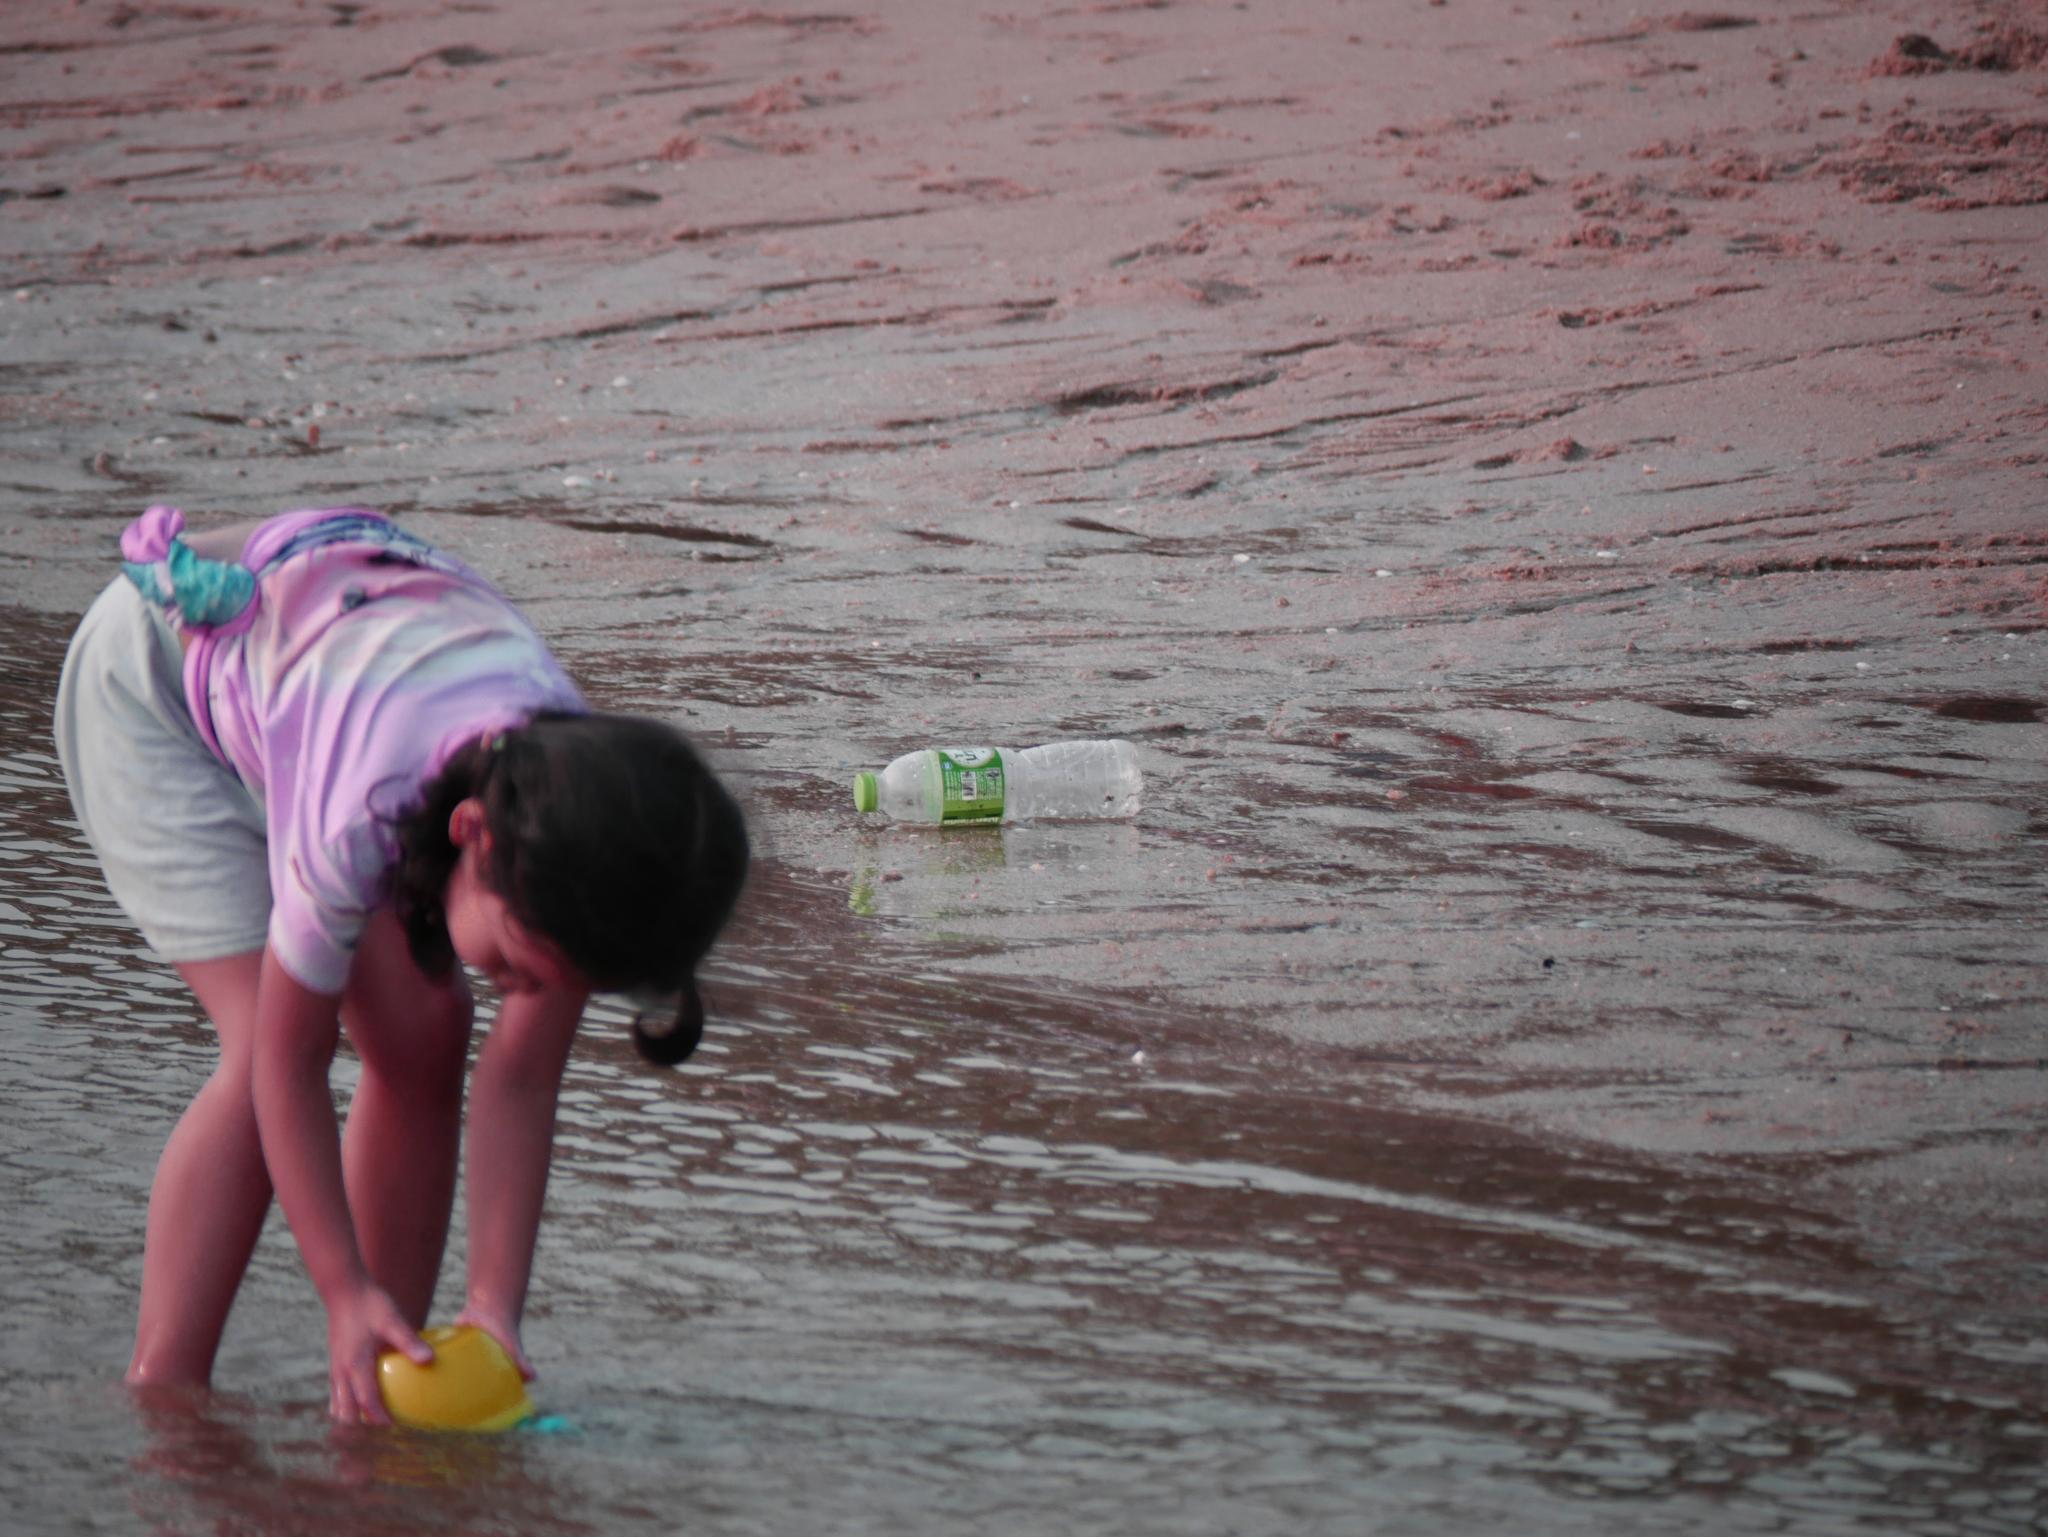Plastic: (821, 715, 1160, 861)
